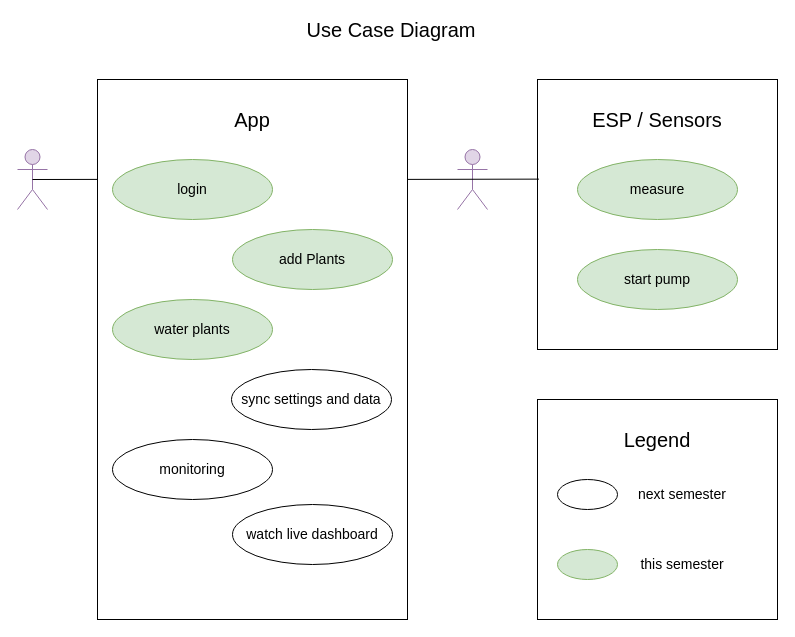
This 795x637 diagram has some shape labels left out. The shapes that lost their labels are listed below. From the top down, each one's centre as x and y in pixels, then its label:
At point (32, 179): "User".
At point (472, 179): "Backend".
